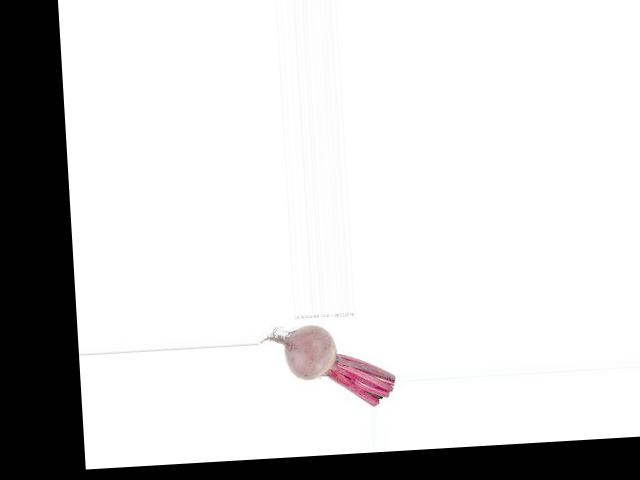beet: (260, 320, 396, 412)
